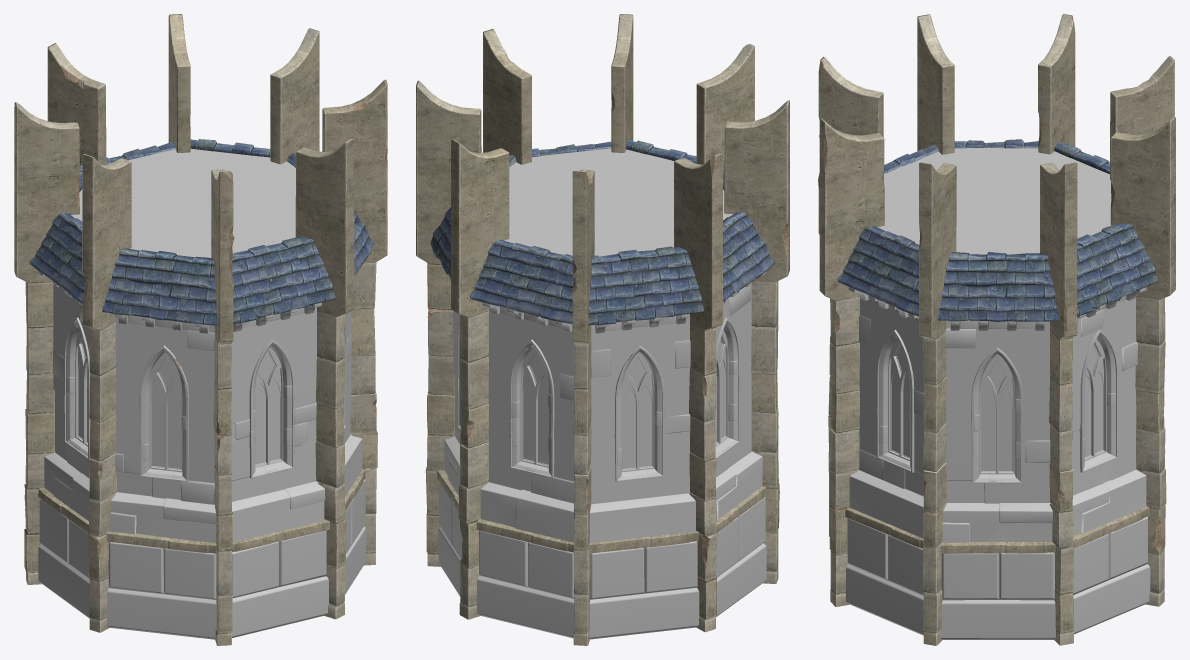
3 views of the same model, side by side, from view 1: azimuth 30°, elevation 25°; view 2: azimuth 150°, elevation 25°; view 3: azimuth 270°, elevation 25° (orthographic).
Visible parts, largest first — view 1: SM_Magic_Insitute_02v01_LOD0; view 2: SM_Magic_Insitute_02v01_LOD0; view 3: SM_Magic_Insitute_02v01_LOD0.
Part boxes in pixels (x1=…): SM_Magic_Insitute_02v01_LOD0: x1=14, y1=14, x2=387, y2=645; SM_Magic_Insitute_02v01_LOD0: x1=416, y1=14, x2=789, y2=645; SM_Magic_Insitute_02v01_LOD0: x1=818, y1=14, x2=1175, y2=645.
Size of the model in its own units: 12.44 by 18.66 by 12.46.
